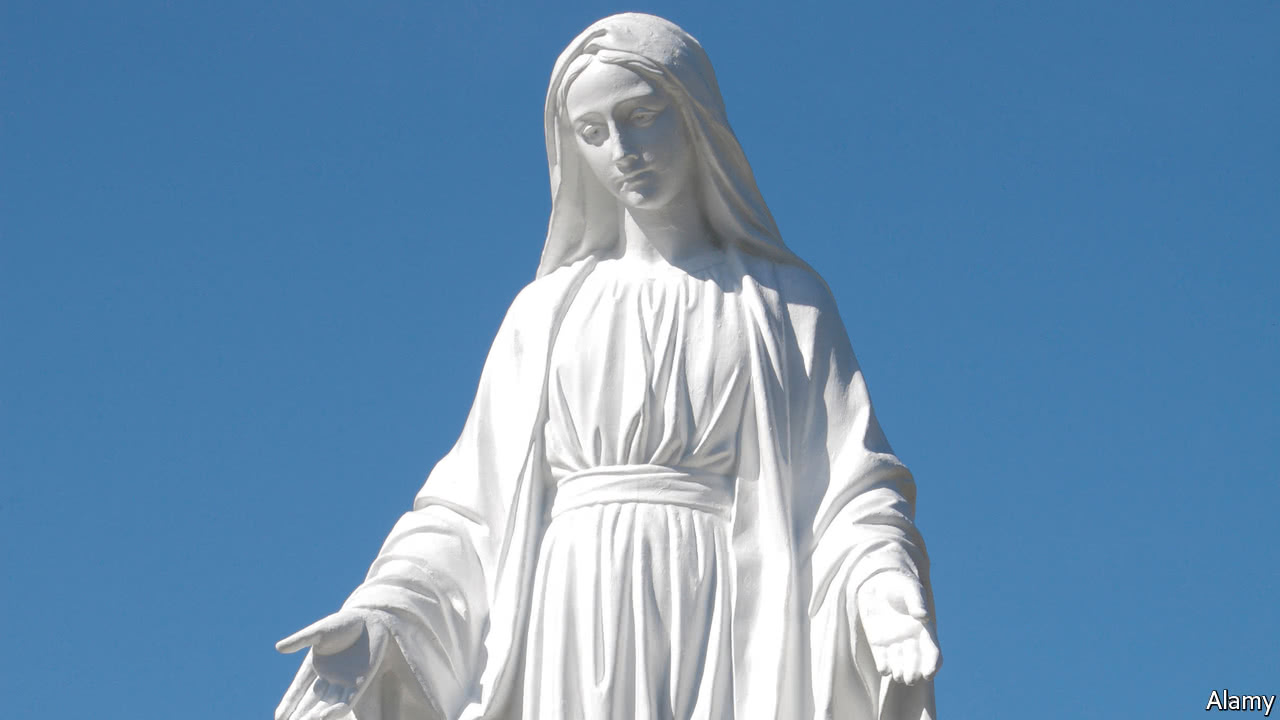person-like: (258, 6, 951, 719)
